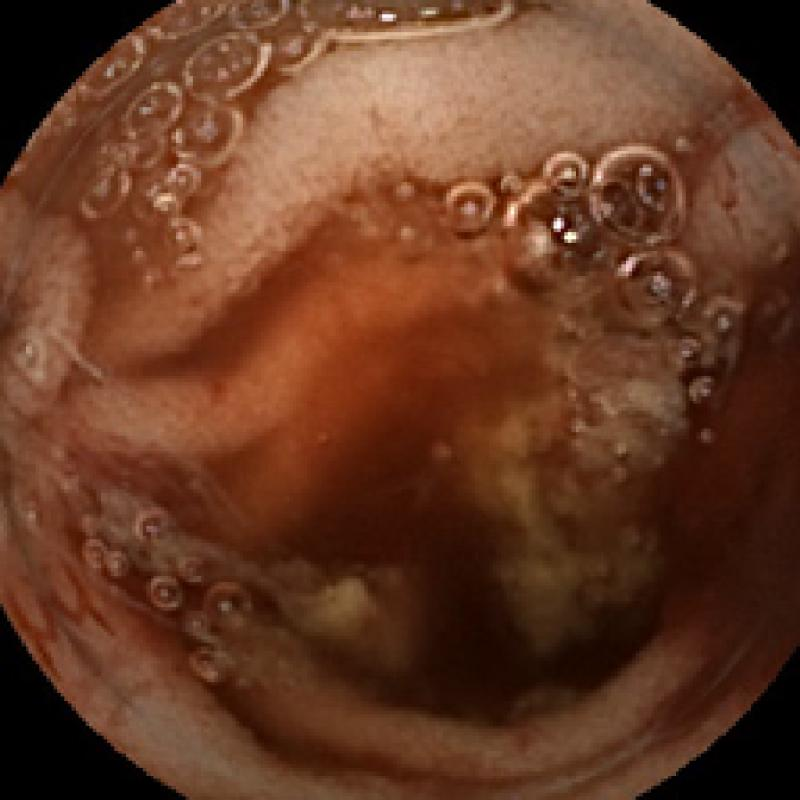bleeding: (618, 275, 800, 721)
